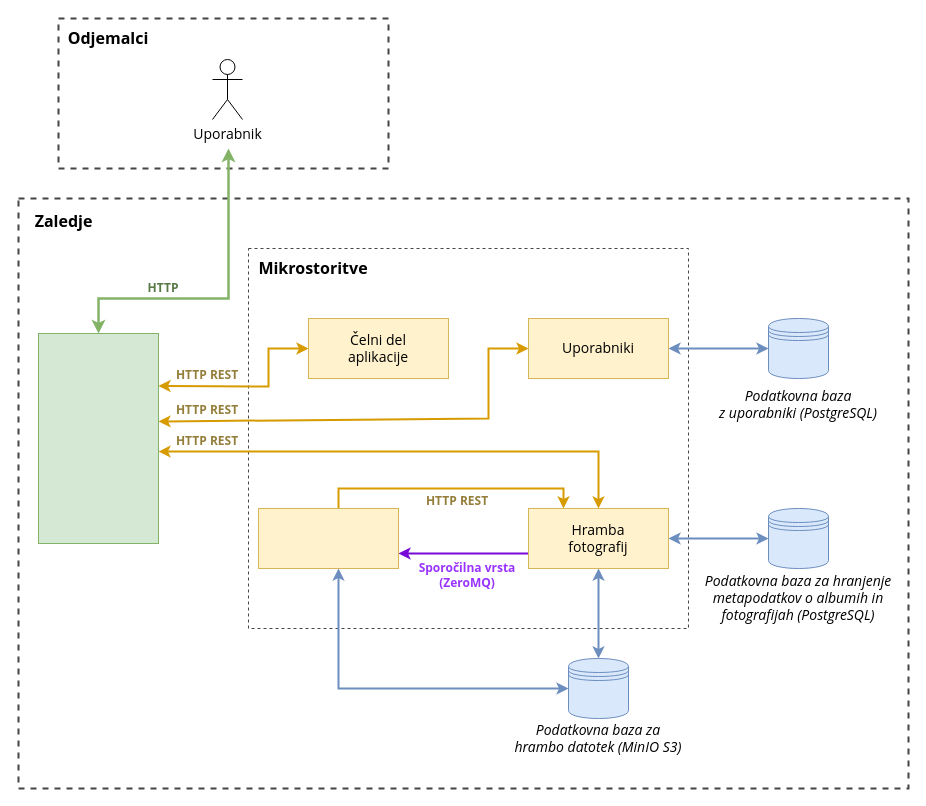
The diagram is 926 pixels wide and 806 high, and some of its shapes have lost their labels. Here are the shapes that lost their labels. From the top down, the centre of each, then its label:
[98,438]: Prehod za vmesnik uporabniškega progama (API Gateway)
[328,538]: Procesiranje fotografij
